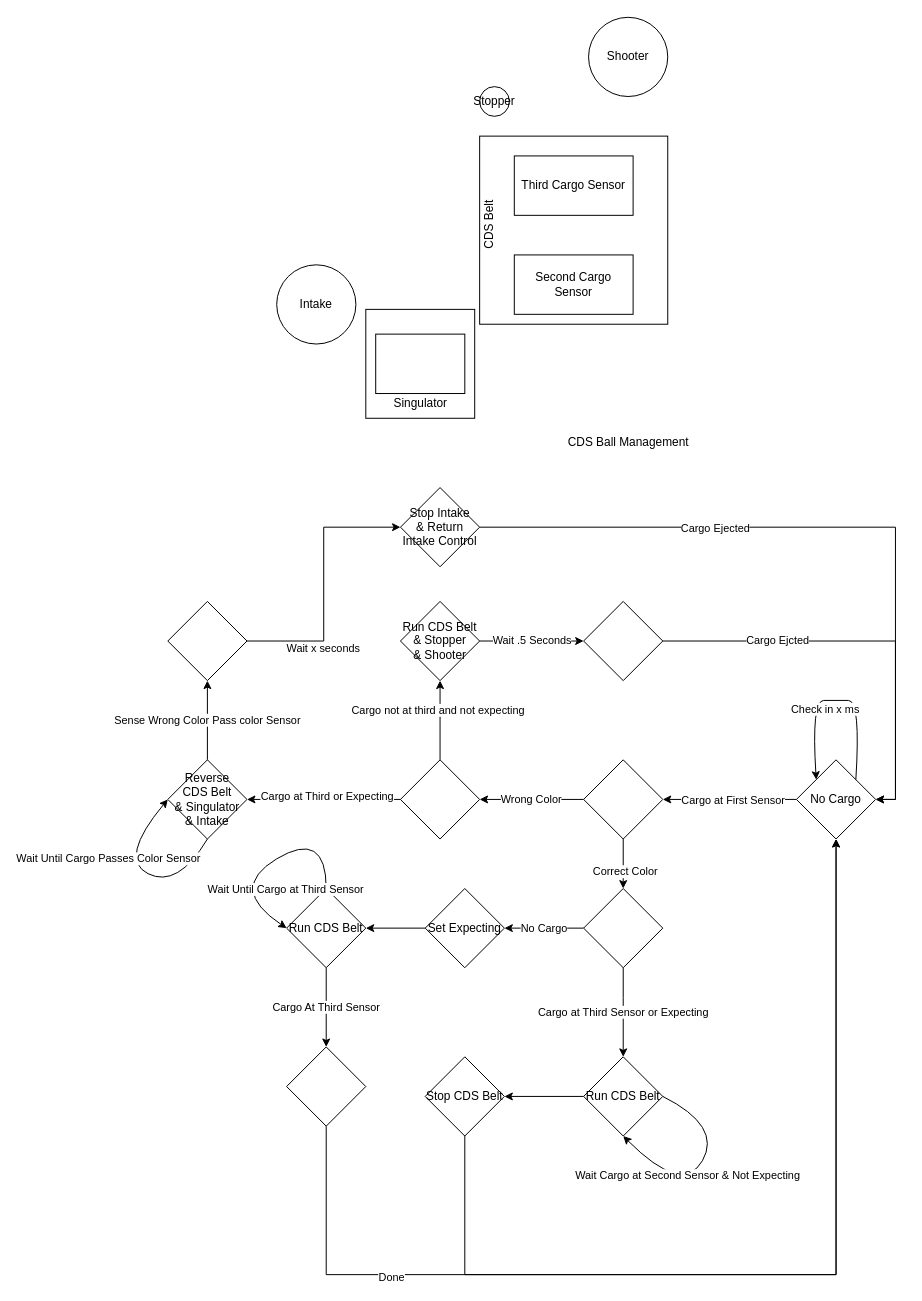
Some shapes in this 922 by 1301 pixel diagram are drawn without their labels. The centre of each missing label's shape, as x and y in pixels:
"Advance" goes at [623,928].
"Find Eject Path" goes at [439,799].
"First Cargo Sensor" goes at [420,363].
"Sense Color" goes at [623,799].
"Stop CDS Belt & Stopper & Shooter" goes at [623,640].
"Stop CDS Belt and Set Expecting False" goes at [326,1086].
"Stop Signulator & Override Intake" goes at [207,640].
